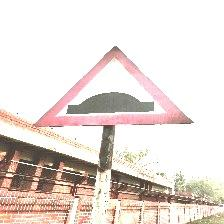Speed-breaker: (32, 42, 189, 129)
